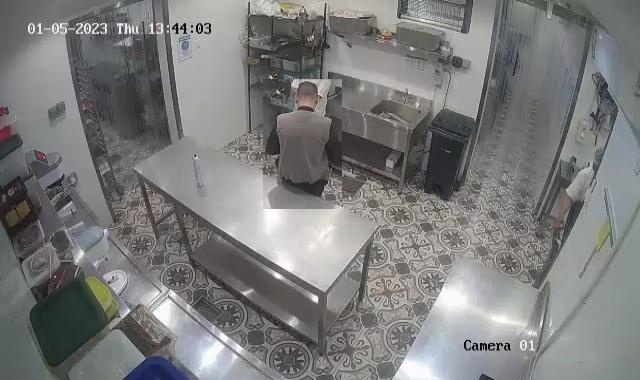no_hairnet: (295, 81, 322, 112)
